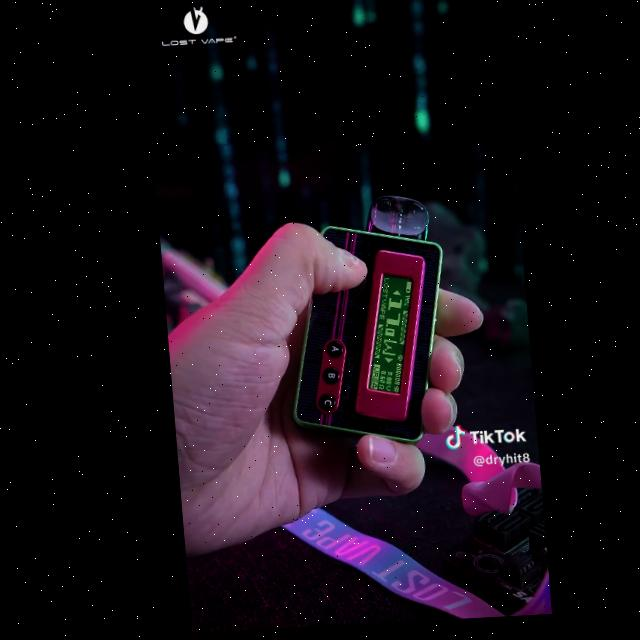vape: (272, 200, 448, 450)
